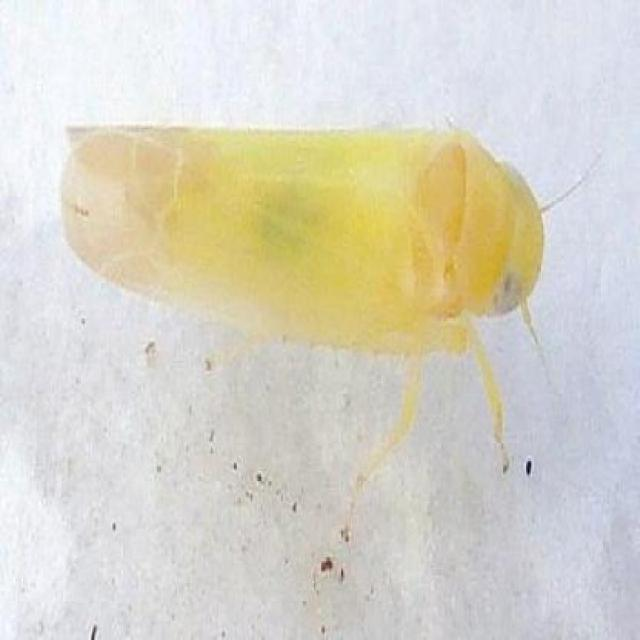green-leafhopper: (54, 121, 541, 542)
